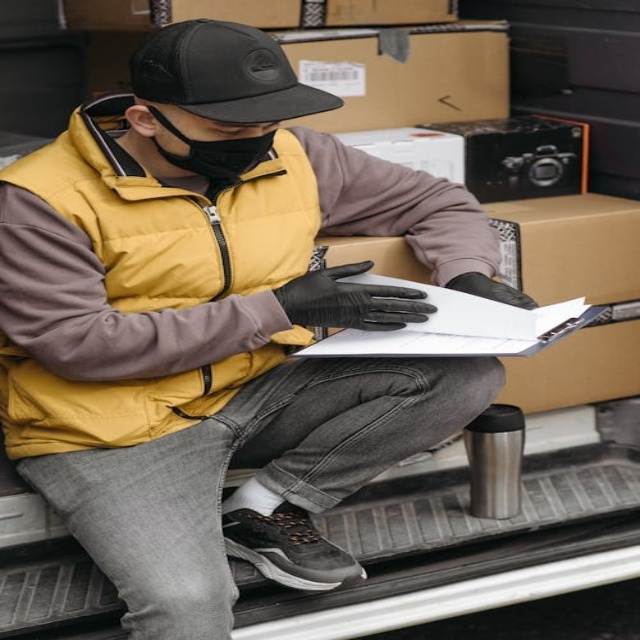Guantes: (271, 259, 436, 332), (444, 272, 540, 310)
Mascara: (144, 105, 281, 179)
Sin_gafas: (178, 120, 282, 140)
